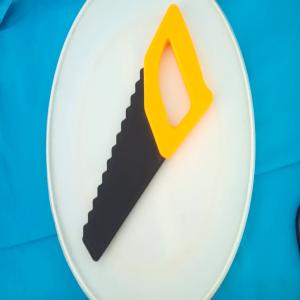serrote: (81, 2, 215, 263)
